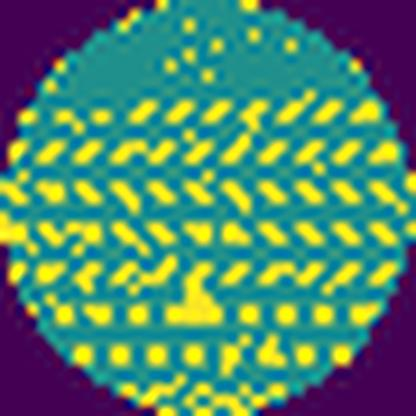Loc: (9, 93, 416, 416), (168, 263, 226, 325)
